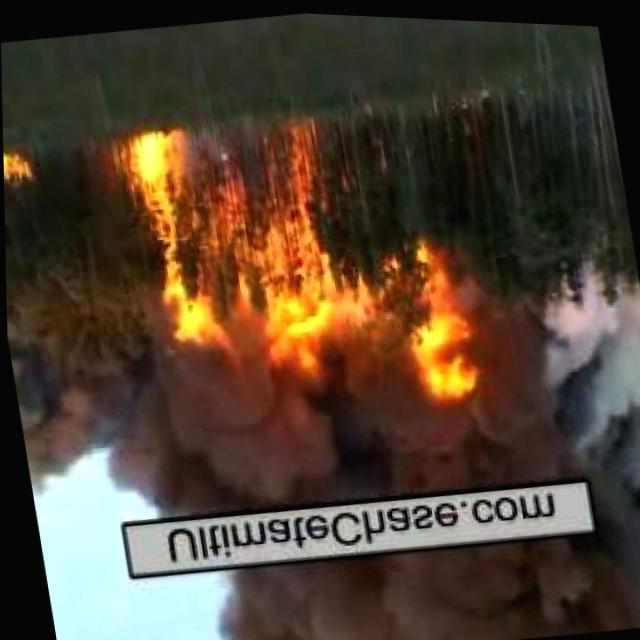Fire: (121, 104, 353, 374), (388, 231, 491, 415), (3, 147, 39, 198)
Smoke: (10, 301, 582, 539), (205, 514, 608, 640), (551, 260, 640, 626)
